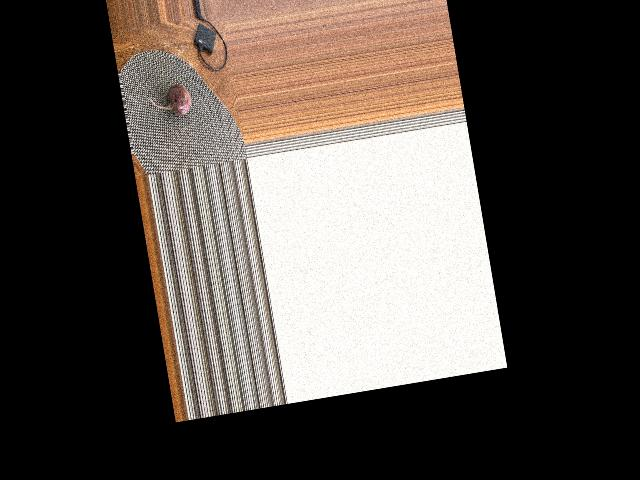beet: (147, 82, 192, 119)
